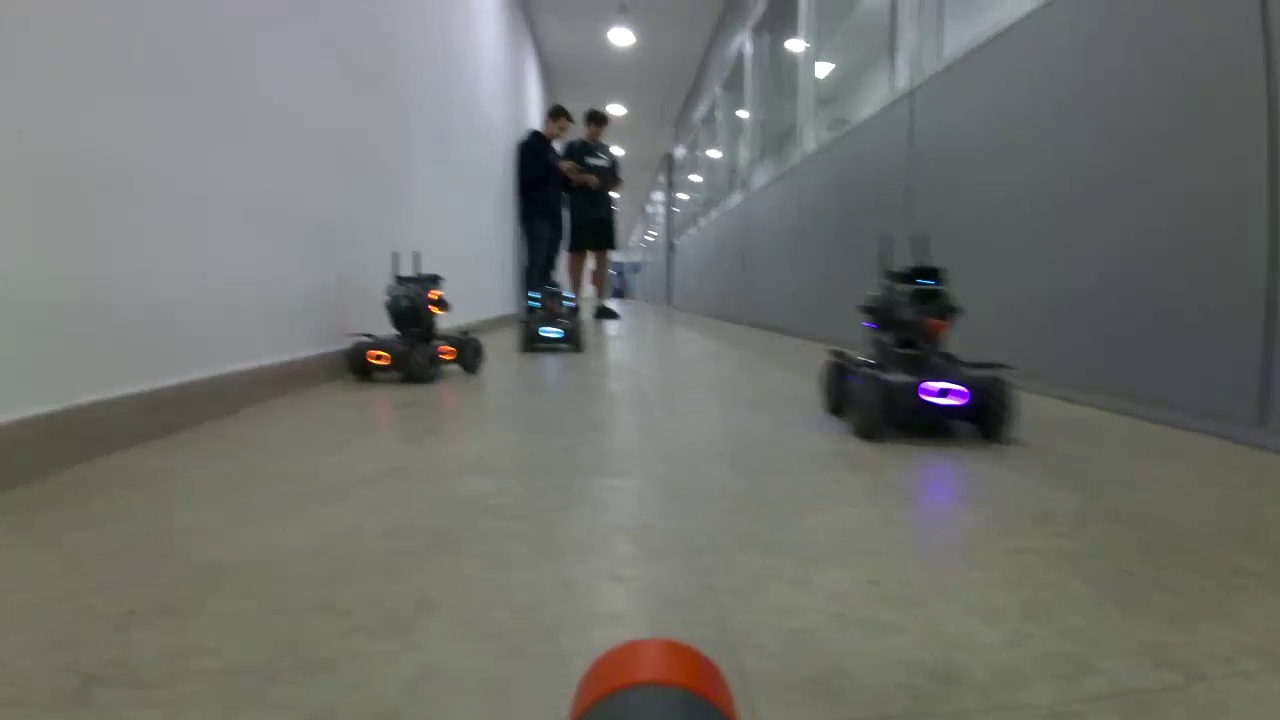robot: (818, 263, 1018, 450), (347, 271, 486, 387), (518, 284, 585, 354)
